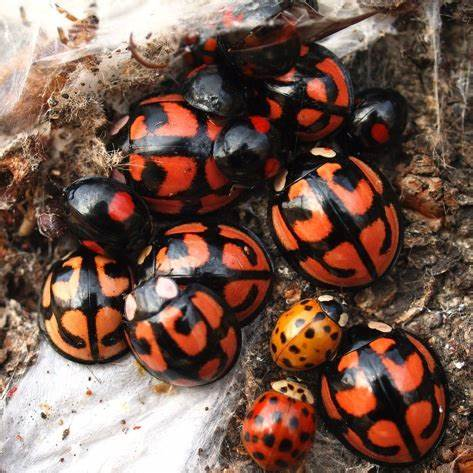other: (275, 143, 397, 289), (321, 326, 449, 463), (37, 250, 143, 368), (123, 283, 238, 386), (149, 223, 272, 306), (260, 34, 349, 138)
red: (243, 376, 317, 473), (267, 292, 350, 372)
two_spots: (59, 178, 153, 263), (211, 115, 290, 185), (346, 86, 410, 143)
